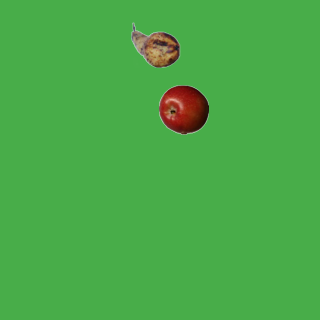Apple Braeburn: (158, 84, 208, 134)
Pear Abate: (130, 20, 180, 70)
